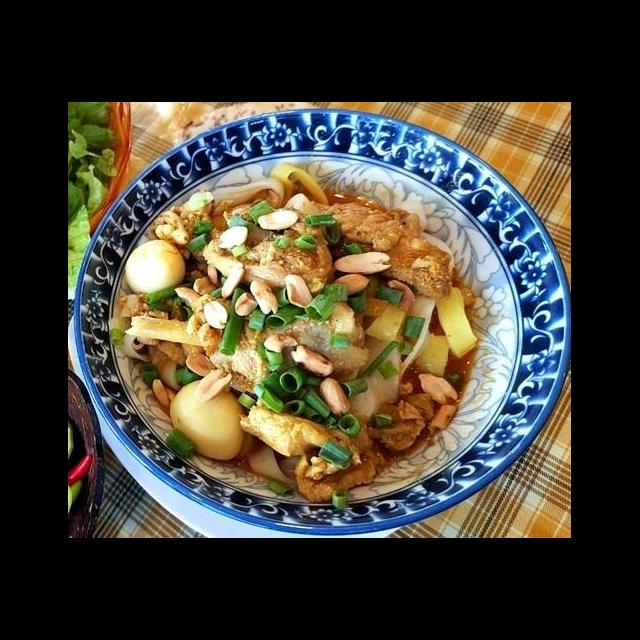mi: (346, 282, 482, 422), (114, 312, 214, 396), (204, 159, 330, 220)
thit heo: (180, 287, 372, 397), (235, 401, 388, 506), (318, 196, 456, 304), (194, 201, 336, 301), (362, 387, 442, 454)
trung: (166, 376, 248, 463), (121, 237, 188, 300)
